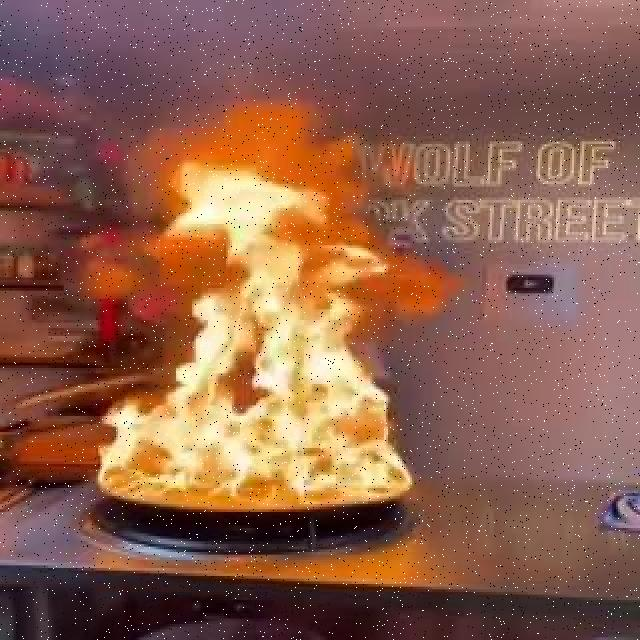fire: (100, 160, 412, 500)
